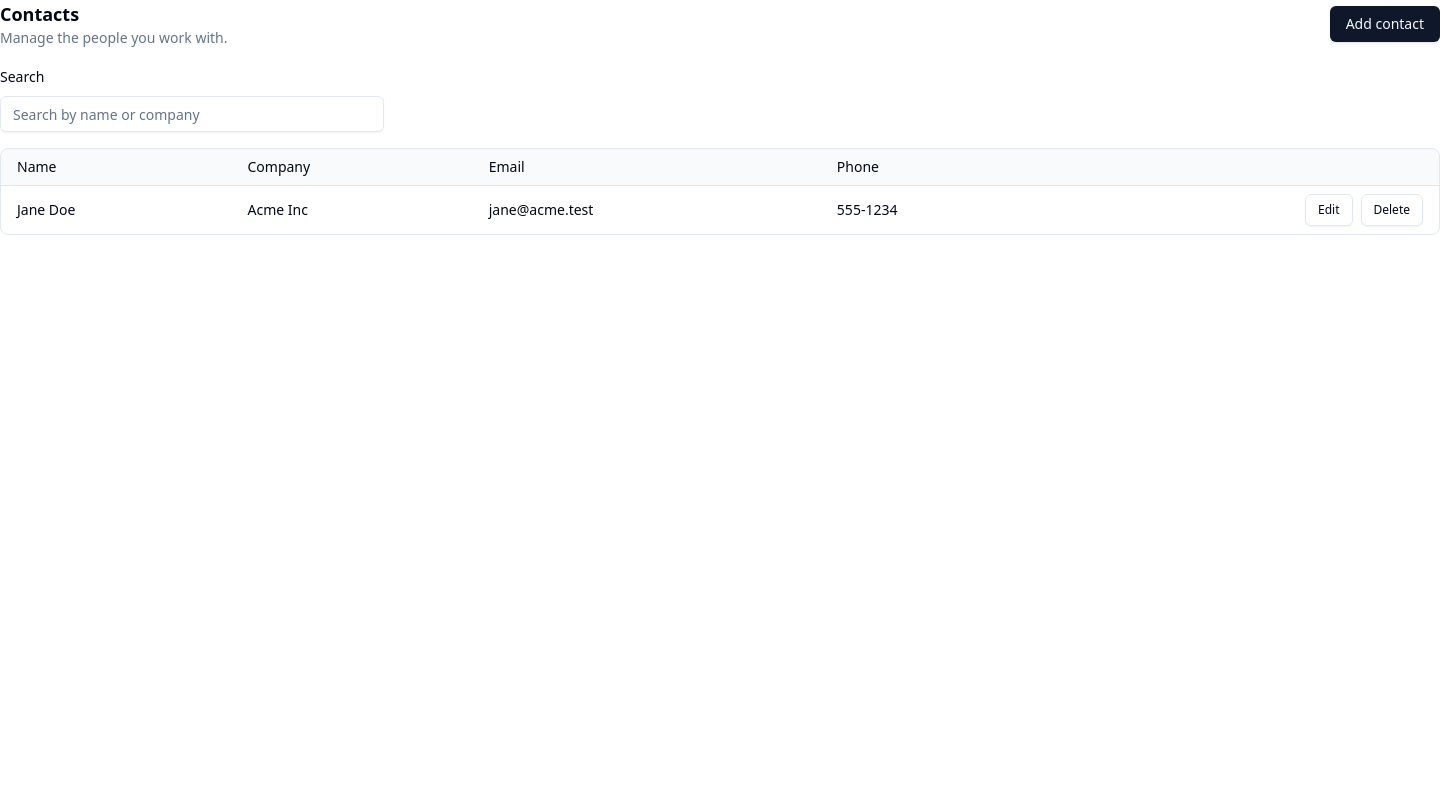
Test: ContactsPage › shows empty states for a contact with no linked deals or tasks
Click the button "Jane Doe" at (46, 210), box [17,200,76,220]
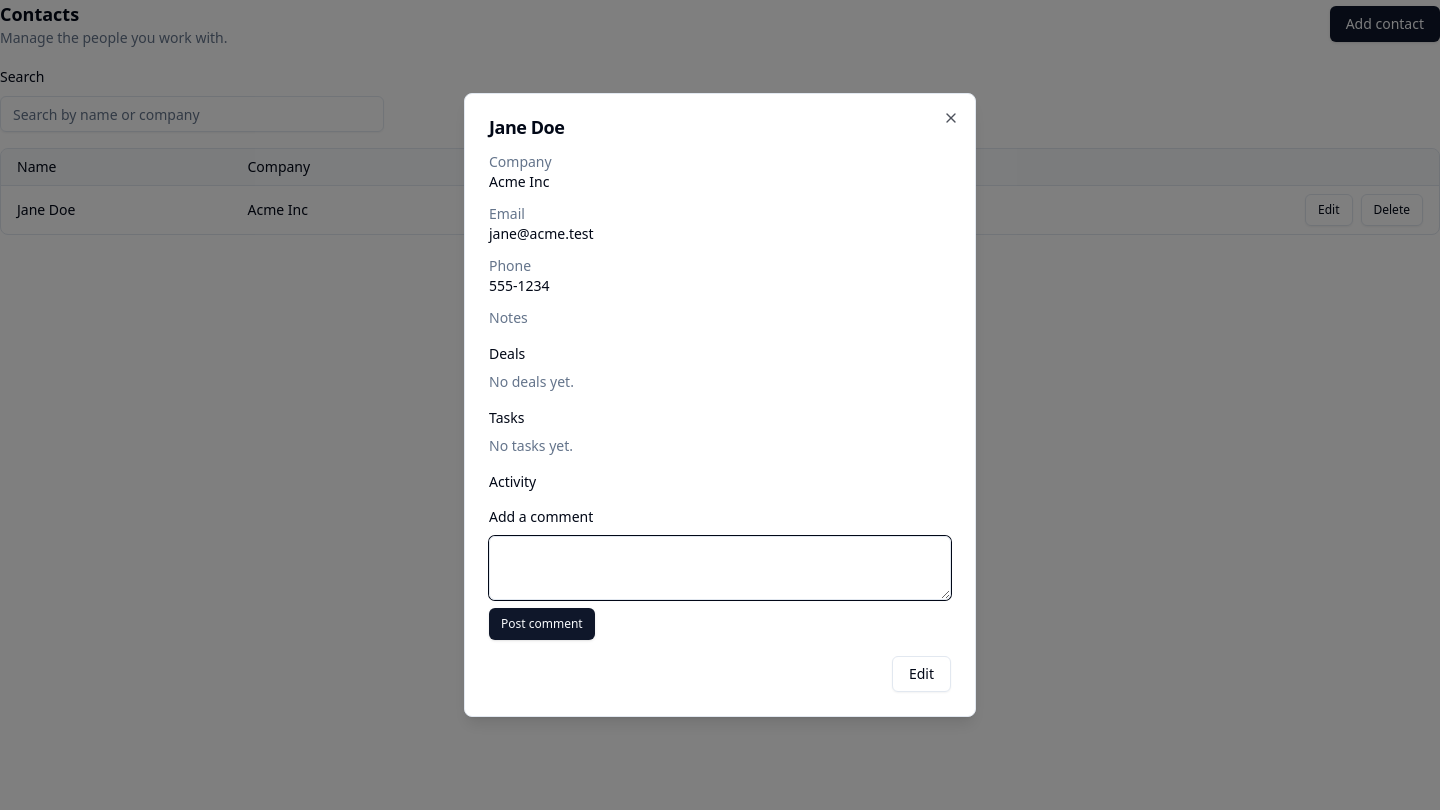
Result: the text "No deals yet." is shown at [489,372,574,391]
Result: the text "No tasks yet." is shown at [489,436,573,455]
